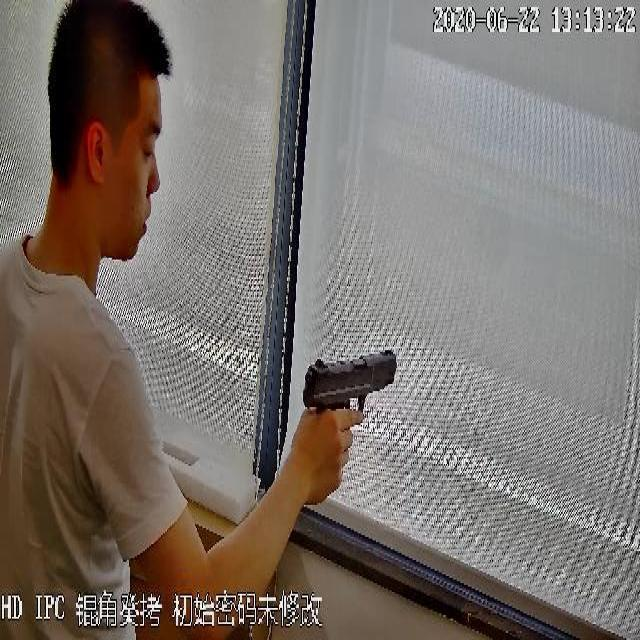pistol: (302, 346, 398, 414)
